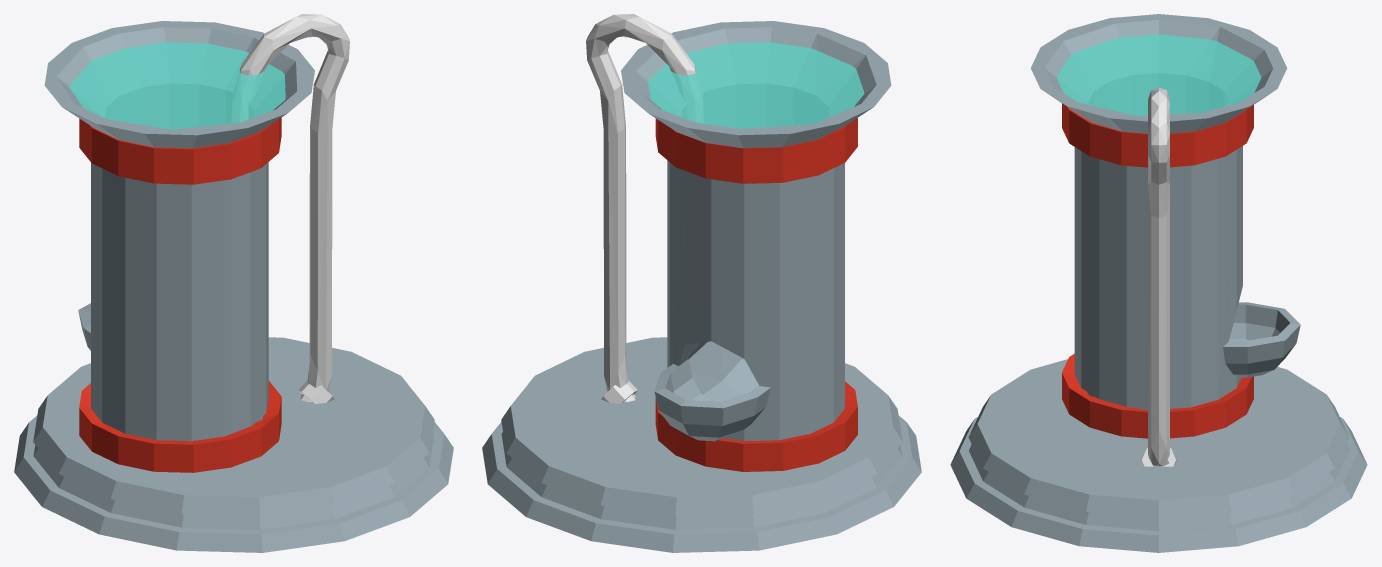
The model's file is collector.glb.
3 views of the same model, side by side, from view 1: azimuth 30°, elevation 25°; view 2: azimuth 150°, elevation 25°; view 3: azimuth 270°, elevation 25° (orthographic). The views are drawn at different scales.
Parts seen in each view (by area): view 1: CollectorWall, CollectorTone, CollectorRail, CollectorPlayerBand, CollectorPlayerBand.001; view 2: CollectorWall, CollectorTone, CollectorRail, CollectorPlayerBand, CollectorPlayerBand.001, CollectorCup; view 3: CollectorWall, CollectorTone, CollectorRail, CollectorPlayerBand, CollectorPlayerBand.001, CollectorCup.
Part boxes in pixels (x1,y1,x2,y2): CollectorWall: [14, 21, 453, 552]; CollectorTone: [69, 42, 285, 129]; CollectorRail: [232, 14, 349, 402]; CollectorPlayerBand: [79, 117, 281, 184]; CollectorPlayerBand.001: [79, 380, 281, 472]; CollectorWall: [482, 21, 921, 552]; CollectorTone: [648, 42, 864, 128]; CollectorRail: [586, 14, 703, 402]; CollectorPlayerBand: [655, 118, 857, 183]; CollectorPlayerBand.001: [655, 381, 857, 471]; CollectorCup: [654, 359, 770, 441]; CollectorWall: [950, 14, 1367, 552]; CollectorTone: [1056, 34, 1261, 115]; CollectorRail: [1148, 87, 1169, 465]; CollectorPlayerBand: [1062, 103, 1253, 167]; CollectorPlayerBand.001: [1062, 354, 1253, 438]; CollectorCup: [1223, 302, 1300, 377].
Bounding box in the file's own units: 1.28 × 1.42 × 1.28.
